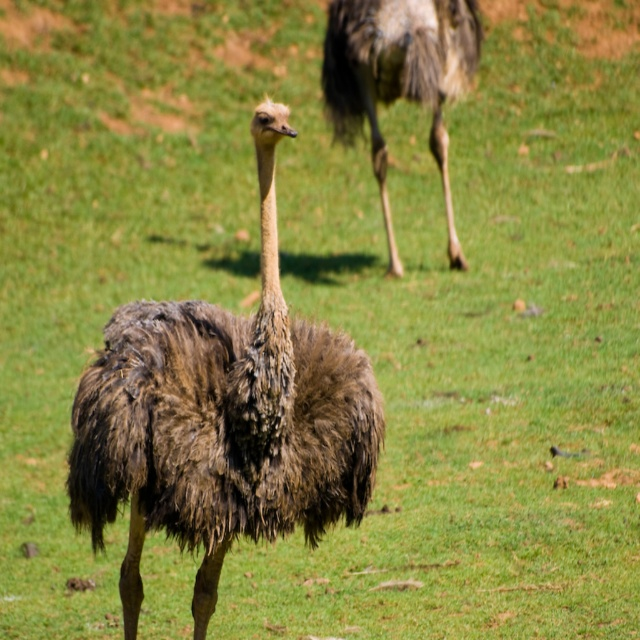Ostrich: (64, 88, 391, 640), (318, 0, 486, 277)
